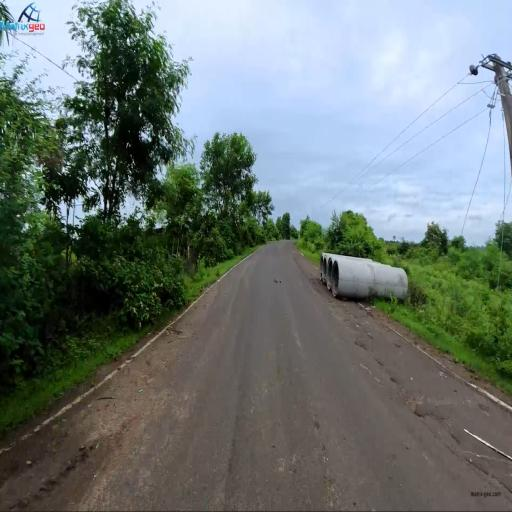ravelling: (414, 387, 464, 481)
